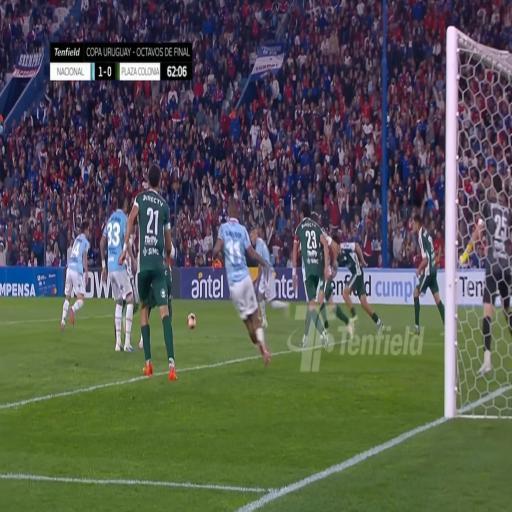Ball: (185, 309, 196, 330)
Goalkeeper: (462, 166, 511, 376)
Player: (137, 161, 175, 387), (215, 194, 258, 364), (290, 202, 330, 348), (407, 219, 441, 336), (108, 188, 132, 352), (338, 227, 368, 331), (248, 219, 274, 322), (313, 210, 336, 304), (70, 218, 89, 324)
